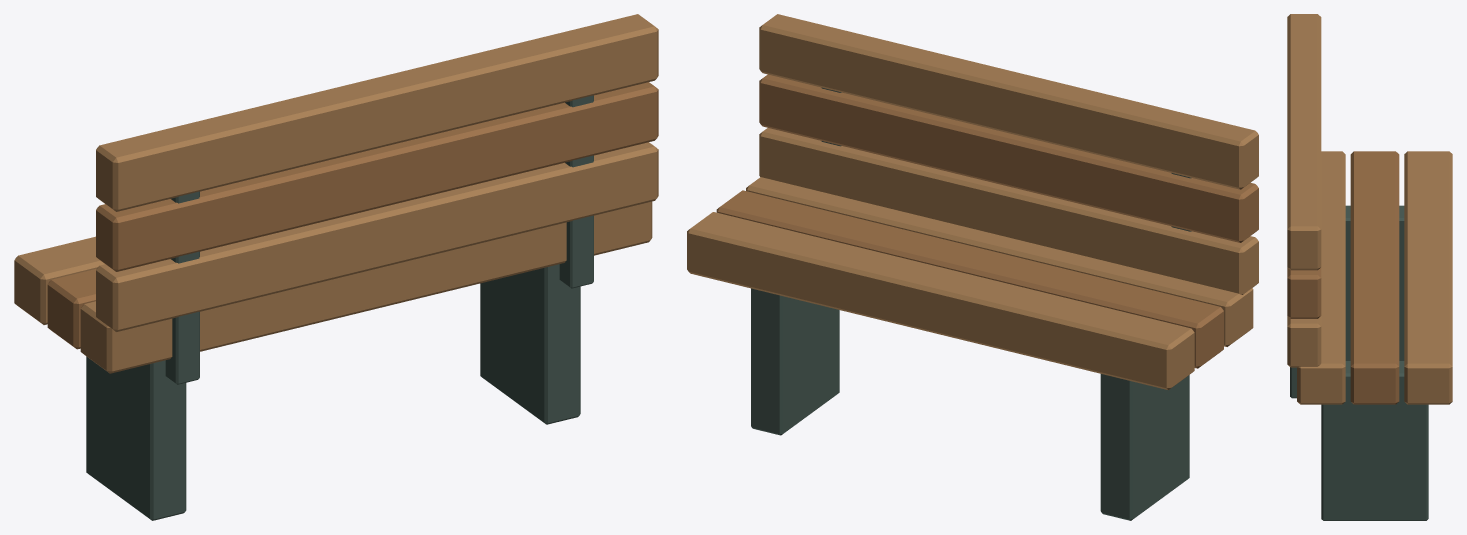
File: excit-bench-test.glb
The picture shows the model from 3 angles, left to right: view 1: azimuth 30°, elevation 25°; view 2: azimuth 150°, elevation 25°; view 3: azimuth 270°, elevation 25°; orthographic projection. The views are drawn at different scales.
Visible parts, largest first — view 1: EXCIT_BENCH_BACK_03, EXCIT_BENCH_BACK_02, EXCIT_BENCH_BACK_01, EXCIT_BENCH_SEAT_01, EXCIT_BENCH_LEG_L, EXCIT_BENCH_LEG_R, EXCIT_BENCH_SEAT_03, EXCIT_BENCH_SEAT_02, EXCIT_BENCH_BACK_SUPPORT_L, EXCIT_BENCH_BACK_SUPPORT_R; view 2: EXCIT_BENCH_SEAT_03, EXCIT_BENCH_BACK_03, EXCIT_BENCH_BACK_02, EXCIT_BENCH_BACK_01, EXCIT_BENCH_SEAT_02, EXCIT_BENCH_LEG_L, EXCIT_BENCH_LEG_R, EXCIT_BENCH_SEAT_01; view 3: EXCIT_BENCH_LEG_R, EXCIT_BENCH_SEAT_02, EXCIT_BENCH_SEAT_03, EXCIT_BENCH_BACK_03, EXCIT_BENCH_SEAT_01, EXCIT_BENCH_LEG_L, EXCIT_BENCH_BACK_02, EXCIT_BENCH_BACK_01, EXCIT_BENCH_BACK_SUPPORT_R.
Boxes of the visible parts, x1,y1,x2,y2 form: EXCIT_BENCH_BACK_03: (96,14,658,211); EXCIT_BENCH_BACK_02: (96,82,658,271); EXCIT_BENCH_BACK_01: (96,142,658,331); EXCIT_BENCH_SEAT_01: (80,201,652,373); EXCIT_BENCH_LEG_L: (86,356,186,520); EXCIT_BENCH_LEG_R: (480,264,580,424); EXCIT_BENCH_SEAT_03: (14,236,104,324); EXCIT_BENCH_SEAT_02: (47,269,96,349); EXCIT_BENCH_BACK_SUPPORT_L: (165,191,199,384); EXCIT_BENCH_BACK_SUPPORT_R: (559,95,593,288); EXCIT_BENCH_SEAT_03: (687,212,1194,390); EXCIT_BENCH_BACK_03: (759,14,1258,189); EXCIT_BENCH_BACK_02: (759,74,1258,242); EXCIT_BENCH_BACK_01: (759,128,1258,294); EXCIT_BENCH_SEAT_02: (716,190,1223,368); EXCIT_BENCH_LEG_L: (1100,374,1189,520); EXCIT_BENCH_LEG_R: (751,288,839,435); EXCIT_BENCH_SEAT_01: (746,177,1253,346); EXCIT_BENCH_LEG_R: (1321,361,1428,520); EXCIT_BENCH_SEAT_02: (1350,151,1399,404); EXCIT_BENCH_SEAT_03: (1404,151,1452,404); EXCIT_BENCH_BACK_03: (1287,14,1321,270); EXCIT_BENCH_SEAT_01: (1297,151,1345,404); EXCIT_BENCH_LEG_L: (1345,205,1404,360); EXCIT_BENCH_BACK_02: (1287,267,1321,318); EXCIT_BENCH_BACK_01: (1287,316,1321,367); EXCIT_BENCH_BACK_SUPPORT_R: (1290,367,1296,398).
Size of the model in its own units: 1.8 by 1.24 by 0.585.
